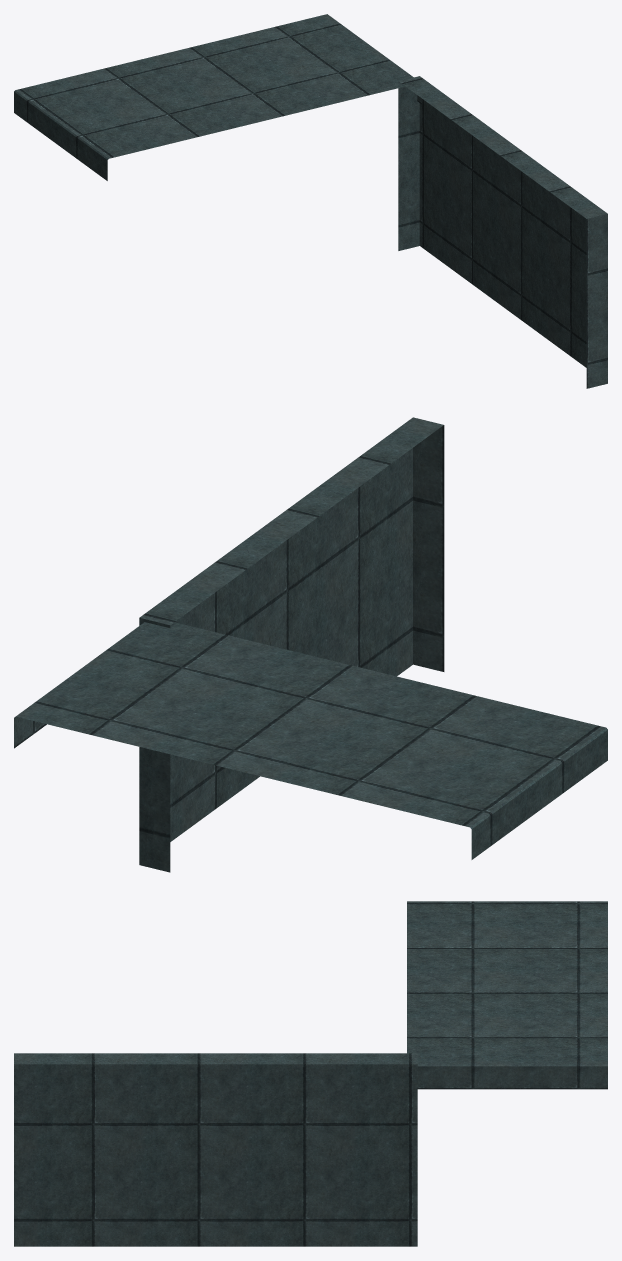
Rendered from GETdOwnmRsHELLidENT.fbx.
3 views of the same model, one above another, from view 1: azimuth 30°, elevation 25°; view 2: azimuth 150°, elevation 25°; view 3: azimuth 270°, elevation 25° (orthographic). The views are drawn at different scales.
Visible parts, largest first — view 1: Cube.11318, Cube.11319; view 2: Cube.11319, Cube.11318; view 3: Cube.11318, Cube.11319.
Boxes of the visible parts, left/top/right/bottom form: Cube.11318: left=398, top=76, right=607, bottom=388; Cube.11319: left=14, top=14, right=422, bottom=180; Cube.11319: left=14, top=622, right=607, bottom=859; Cube.11318: left=139, top=417, right=444, bottom=872; Cube.11318: left=14, top=1053, right=417, bottom=1246; Cube.11319: left=407, top=901, right=607, bottom=1089.
Size of the model in its own units: 2971 by 1522 by 4495.
Materials: 1 (1 with a texture image).
